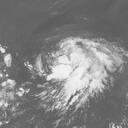cyclone: (43, 36, 112, 99)
